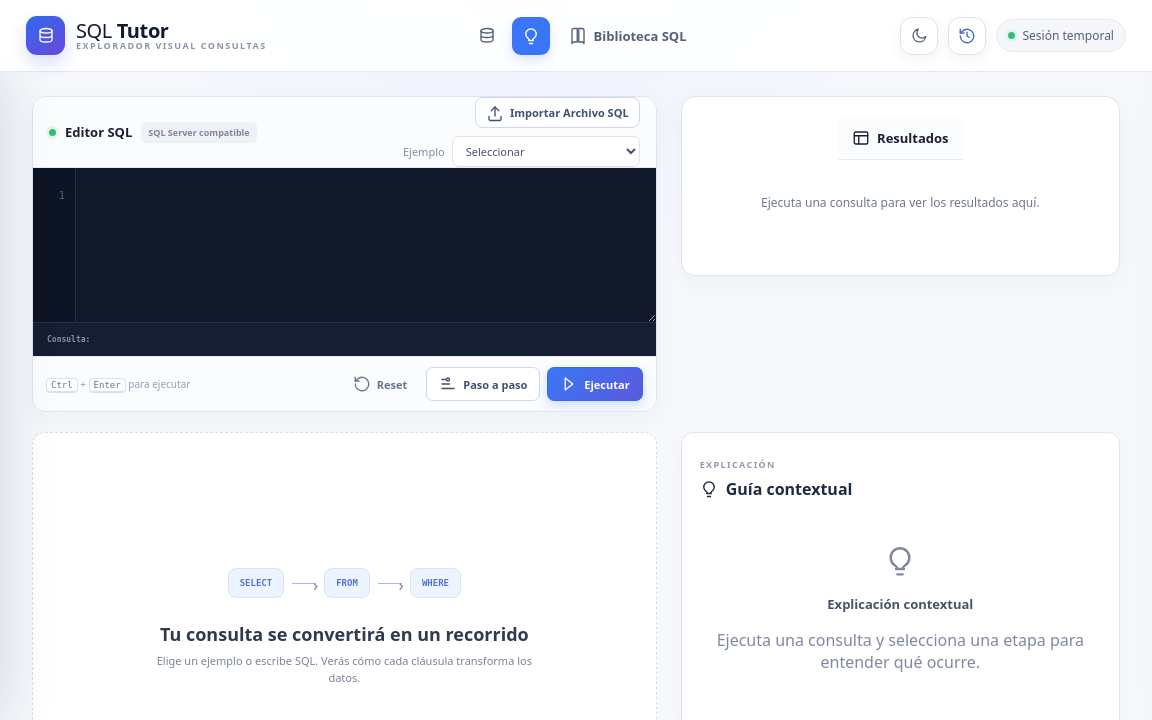
Test: App SQL flows › opens the restore confirmation from the sandbox with cancel focused
This screenshot has width=1152, height=720.
Click the button named "Abrir base de datos": x=486, y=36 [468,16,506,54]
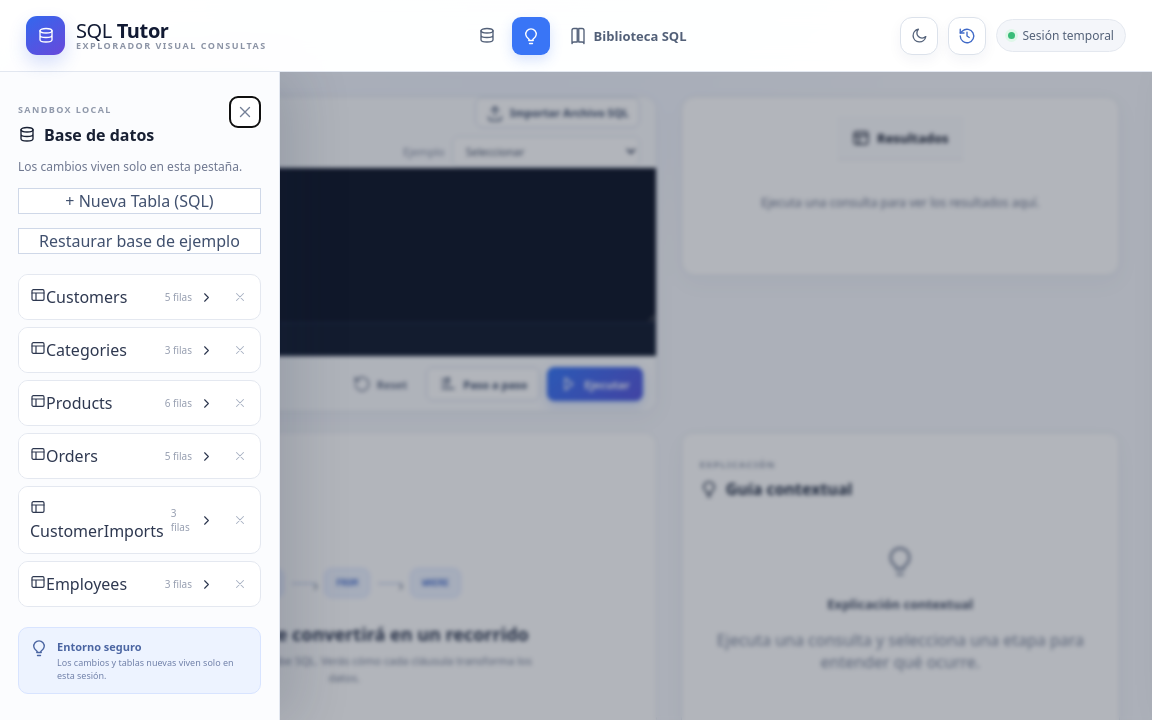
Click the button "Restaurar base de ejemplo": x=140, y=241 [18,228,261,254]
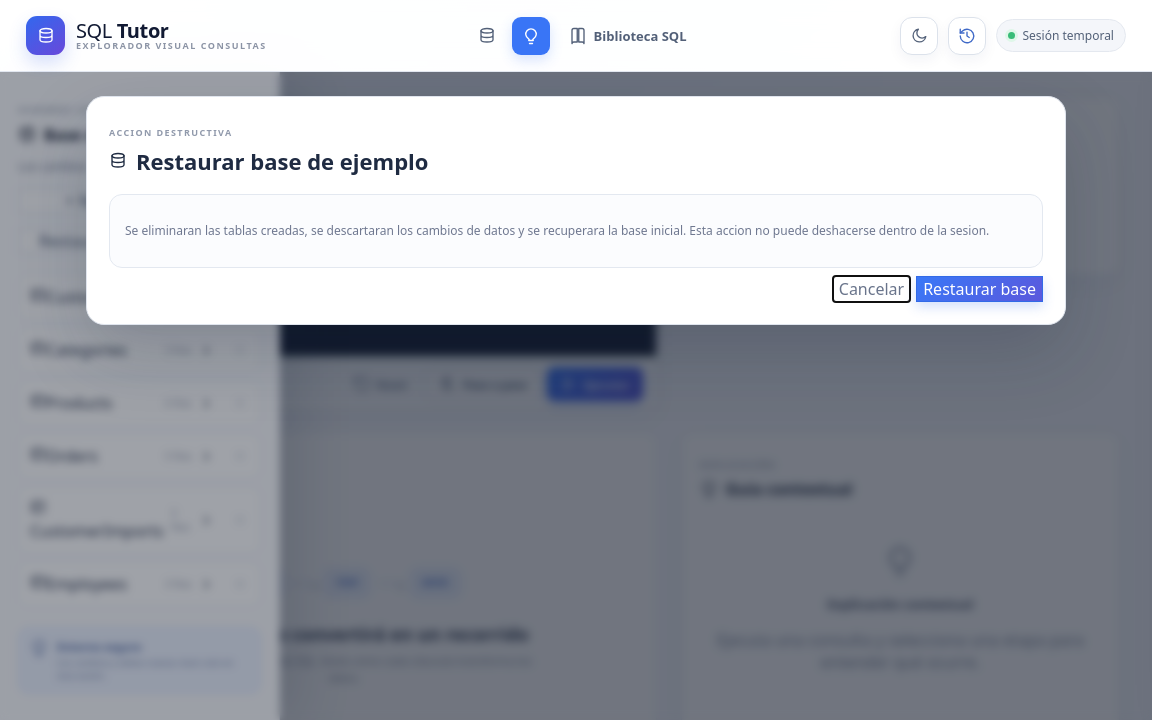
Check: the text "Se eliminaran las tablas creadas" is shown, box [125,222,989,239]
